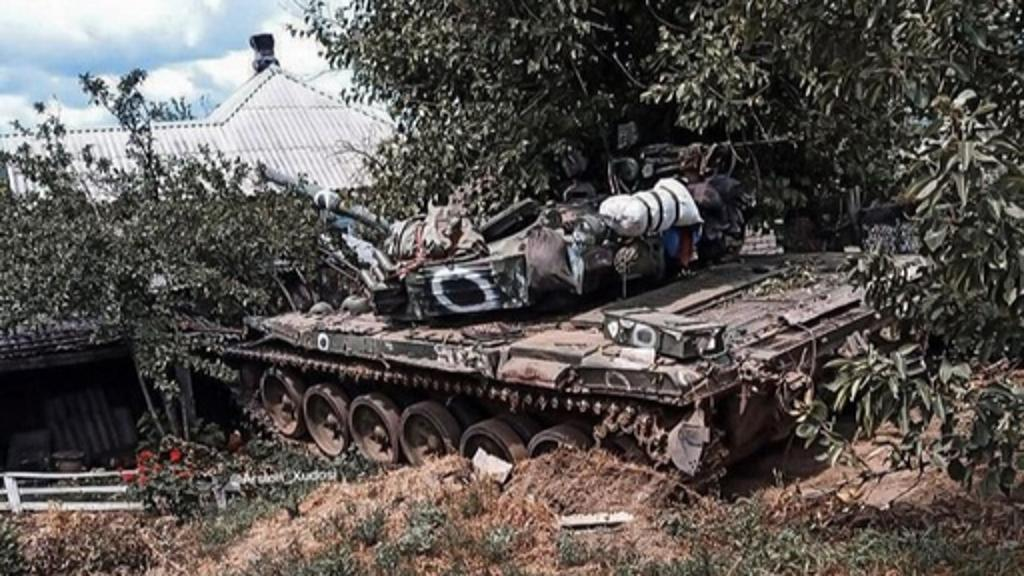TANK: (212, 150, 944, 490)
